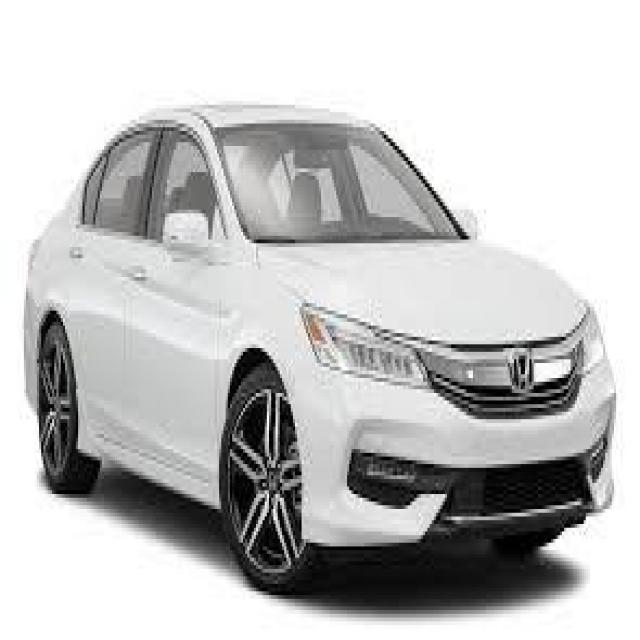back_right_door: (70, 120, 162, 446)
front_bumper: (289, 326, 618, 548)
front_glass: (213, 122, 470, 245)
front_left_light: (581, 311, 606, 371)
front_right_door: (131, 119, 230, 483)
front_right_light: (299, 293, 434, 388)
hood: (256, 238, 591, 346)
left_mirror: (453, 210, 478, 240)
right_mirror: (162, 212, 221, 265)
wheel: (38, 324, 327, 591)
